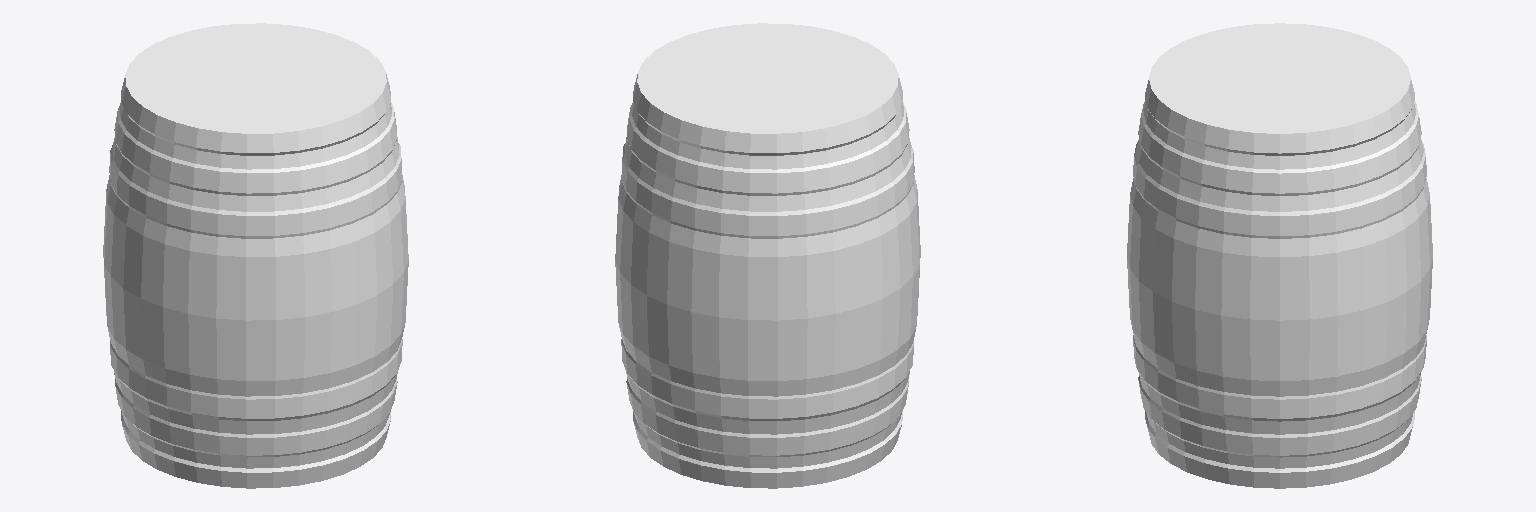
The model's file is barrel.obj.
3 views of the same model, side by side, from view 1: azimuth 30°, elevation 25°; view 2: azimuth 150°, elevation 25°; view 3: azimuth 270°, elevation 25° (orthographic).
Visible parts, largest first — view 1: Mesh_Mesh_Cylinder.001; view 2: Mesh_Mesh_Cylinder.001; view 3: Mesh_Mesh_Cylinder.001.
Part boxes in pixels (left/top/right/bottom): Mesh_Mesh_Cylinder.001: left=103, top=23, right=408, bottom=488; Mesh_Mesh_Cylinder.001: left=615, top=23, right=920, bottom=488; Mesh_Mesh_Cylinder.001: left=1127, top=23, right=1432, bottom=488.
Bounding box in the file's own units: 9.44 × 12.06 × 9.44.